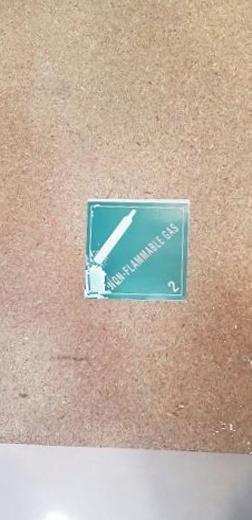non-flammable-gas: (81, 193, 192, 305)
